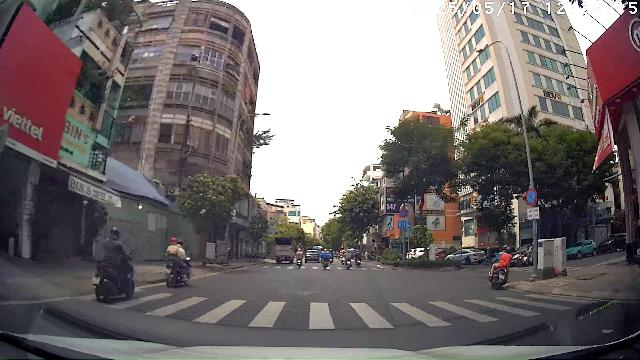131a-cam-do-xe: (526, 189, 538, 206)
